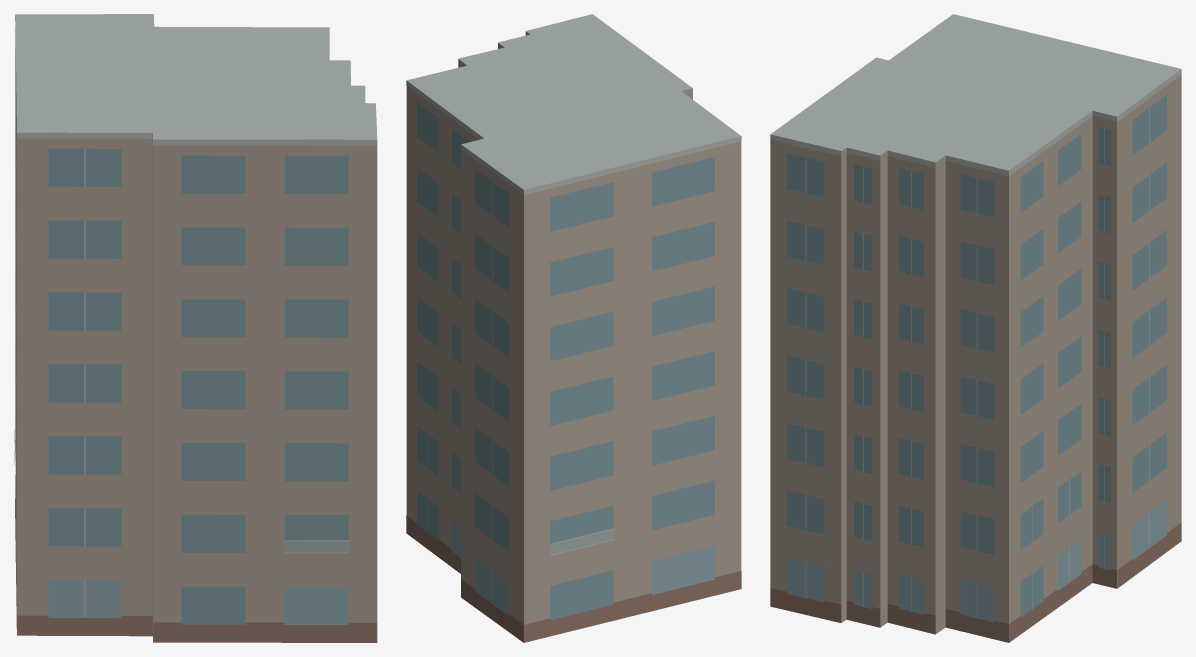
File: survey-upis-33010193.glb
The picture shows the model from 3 angles, left to right: view 1: azimuth 30°, elevation 25°; view 2: azimuth 150°, elevation 25°; view 3: azimuth 270°, elevation 25°; orthographic projection. The views are drawn at different scales.
Visible parts, largest first — view 1: survey-upis-33010193.tmp; view 2: survey-upis-33010193.tmp; view 3: survey-upis-33010193.tmp.
Part boxes in pixels (<box>): survey-upis-33010193.tmp: <box>14,14,377,642</box>; survey-upis-33010193.tmp: <box>406,14,741,642</box>; survey-upis-33010193.tmp: <box>770,14,1181,642</box>.
Bounding box in the file's own units: 15.21 × 21.35 × 16.87.
